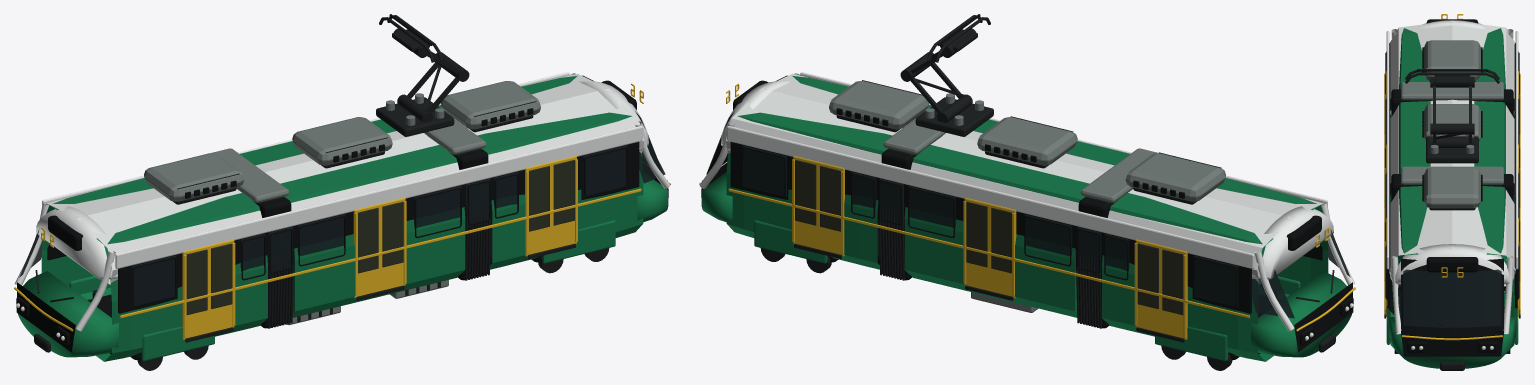
Rendered from e-class-tram.glb.
3 renders of one model, left to right at view 1: azimuth 30°, elevation 25°; view 2: azimuth 150°, elevation 25°; view 3: azimuth 270°, elevation 25°, orthographic. The views are drawn at different scales.
Visible parts, largest first — view 1: C03 low-floor body section 1, C03 low-floor body section 0, C03 continuous white cant rail -1, C03 low-floor body section 2, C03 rounded shoulder shell 0, C03 rounded shoulder shell 2, C03 rounded shoulder shell 1, C04 curved lower crash tub -1, C03 continuous side glazing ribbon -1, C03 chamfered HVAC pod 1, C03 chamfered HVAC pod 0, C03 chamfered HVAC pod 2 (+32 smaller); view 2: C03 low-floor body section 1, C03 low-floor body section 0, C03 continuous white cant rail 1, C03 low-floor body section 2, C03 rounded shoulder shell 0, C03 rounded shoulder shell 2, C03 rounded shoulder shell 1, C03 continuous side glazing ribbon 1, C04 curved lower crash tub -1, C03 chamfered HVAC pod 1, C03 chamfered HVAC pod 0, C03 chamfered HVAC pod 2 (+33 smaller); view 3: C04 continuous windscreen glass 1, C03 rounded shoulder shell 2, C03 low-floor body section 1, C03 low-floor body section 2, C03 rounded shoulder shell 0, C03 chamfered HVAC pod 2, C03 low-floor body section 0, C03 chamfered HVAC pod 0, C04 lower black apron 1, C03 articulation roof bridge 0, C04 smooth cab crown 1, C04 continuous windscreen substrate 1 (+29 smaller).
Boxes of the visible parts, x1,y1,x2,y2 form: C03 low-floor body section 1: [240, 119, 465, 317]; C03 low-floor body section 0: [41, 178, 267, 361]; C03 continuous white cant rail -1: [115, 126, 642, 268]; C03 low-floor body section 2: [438, 76, 643, 269]; C03 rounded shoulder shell 0: [45, 188, 261, 284]; C03 rounded shoulder shell 2: [455, 73, 643, 162]; C03 rounded shoulder shell 1: [255, 131, 459, 210]; C04 curved lower crash tub -1: [17, 271, 118, 357]; C03 continuous side glazing ribbon -1: [118, 142, 639, 313]; C03 chamfered HVAC pod 1: [292, 117, 392, 165]; C03 chamfered HVAC pod 0: [144, 153, 244, 201]; C03 chamfered HVAC pod 2: [440, 81, 540, 129]; C03 low-floor body section 1: [904, 119, 1129, 317]; C03 low-floor body section 0: [1102, 178, 1328, 361]; C03 continuous white cant rail 1: [727, 126, 1254, 268]; C03 low-floor body section 2: [726, 76, 931, 269]; C03 rounded shoulder shell 0: [1108, 188, 1324, 282]; C03 rounded shoulder shell 2: [726, 73, 914, 162]; C03 rounded shoulder shell 1: [910, 131, 1114, 210]; C03 continuous side glazing ribbon 1: [730, 142, 1251, 313]; C04 curved lower crash tub -1: [1251, 271, 1352, 357]; C03 chamfered HVAC pod 1: [977, 117, 1077, 165]; C03 chamfered HVAC pod 0: [1125, 153, 1225, 201]; C03 chamfered HVAC pod 2: [829, 81, 929, 129]; C04 continuous windscreen glass 1: [1403, 269, 1501, 327]; C03 rounded shoulder shell 2: [1389, 190, 1515, 286]; C03 low-floor body section 1: [1390, 101, 1514, 203]; C03 low-floor body section 2: [1387, 186, 1517, 347]; C03 rounded shoulder shell 0: [1390, 21, 1514, 115]; C03 chamfered HVAC pod 2: [1424, 167, 1480, 208]; C03 low-floor body section 0: [1390, 28, 1514, 118]; C03 chamfered HVAC pod 0: [1424, 40, 1480, 80]; C04 lower black apron 1: [1401, 330, 1503, 356]; C03 articulation roof bridge 0: [1401, 82, 1503, 100]; C04 smooth cab crown 1: [1390, 244, 1514, 284]; C04 continuous windscreen substrate 1: [1401, 258, 1503, 336].
Size of the model in its own units: 5.85 by 2.27 by 1.29.
